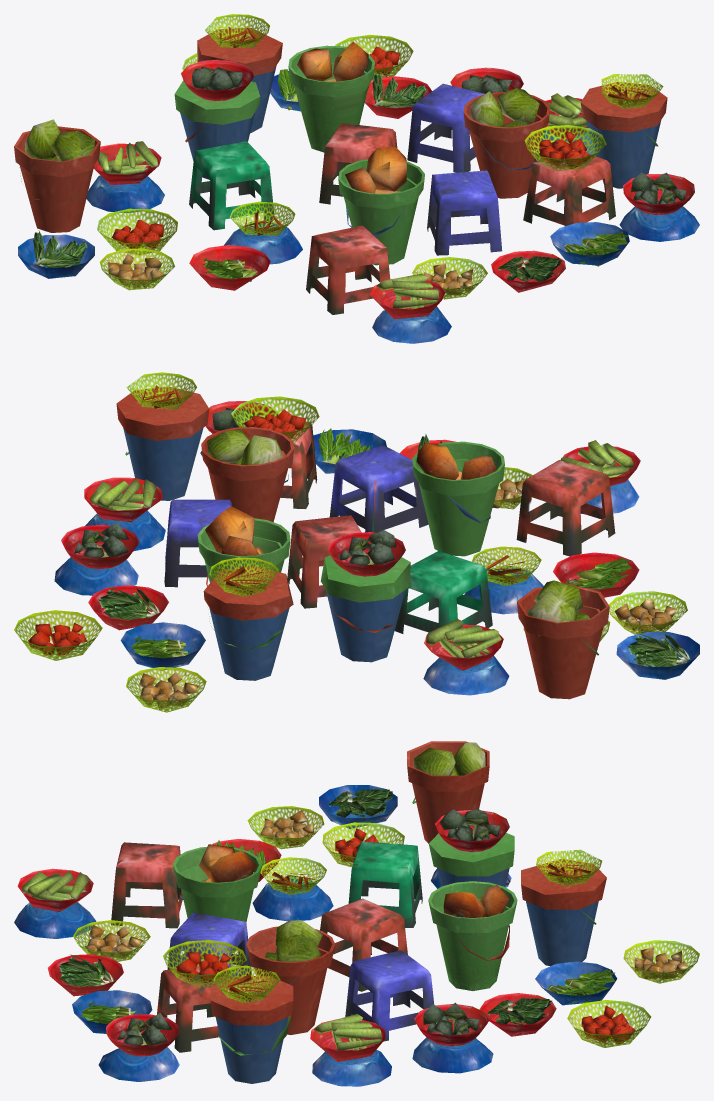
The model's file is sap-rau.glb.
3 views of the same model, one above another, from view 1: azimuth 30°, elevation 25°; view 2: azimuth 150°, elevation 25°; view 3: azimuth 270°, elevation 25° (orthographic). The views are drawn at different scales.
Visible parts, largest first — view 1: Circle.006, PlasticChair3.001, Circle.019; view 2: Circle.006, Circle.019, PlasticChair3.001; view 3: Circle.006, Circle.019, PlasticChair3.001.
Boxes of the visible parts, left/top/right/bottom form: Circle.006: left=306, top=74, right=699, bottom=343; PlasticChair3.001: left=14, top=59, right=302, bottom=290; Circle.019: left=182, top=14, right=595, bottom=204; Circle.006: left=116, top=372, right=640, bottom=556; Circle.019: left=14, top=477, right=361, bottom=712; PlasticChair3.001: left=320, top=530, right=699, bottom=699; Circle.006: left=14, top=842, right=335, bottom=1083; Circle.019: left=310, top=849, right=699, bottom=1086; PlasticChair3.001: left=212, top=741, right=514, bottom=927.
Size of the model in its own units: 0.9951 by 0.1838 by 0.9924.
1 material, 1 textured.
